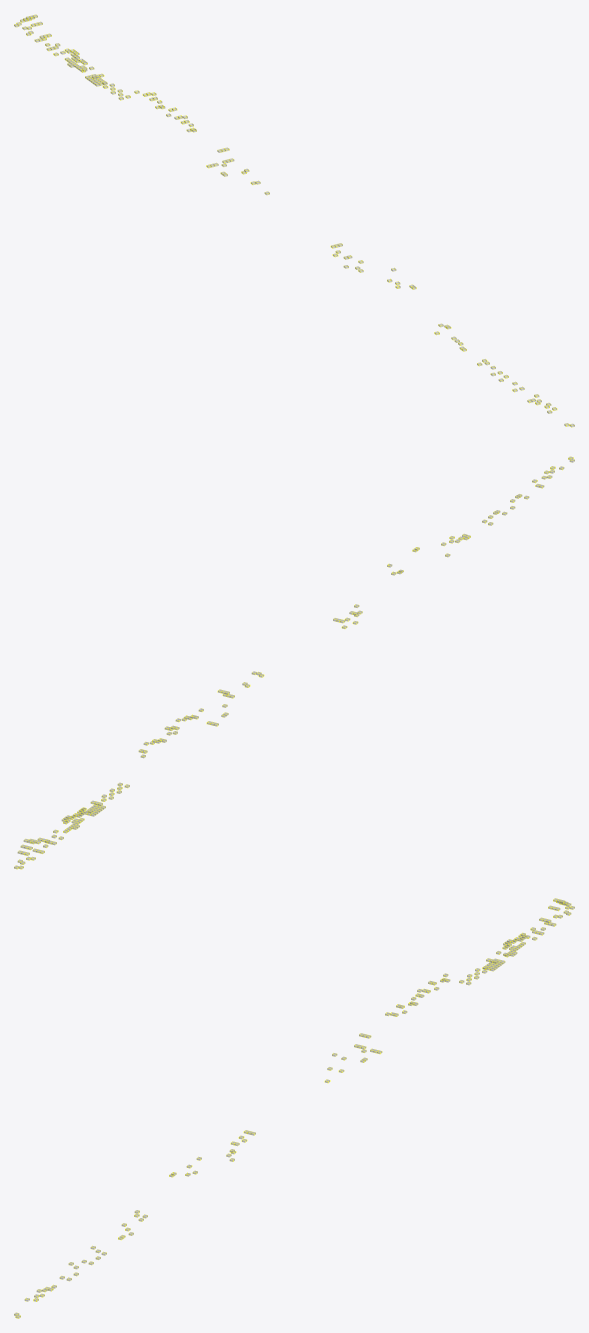
Rendered from PlatF lvl10.fbx.
3 views of the same model, one above another, from view 1: azimuth 30°, elevation 25°; view 2: azimuth 150°, elevation 25°; view 3: azimuth 330°, elevation 25° (orthographic).
Bounding box in the file's own units: 600 × 1500 × 55900.
